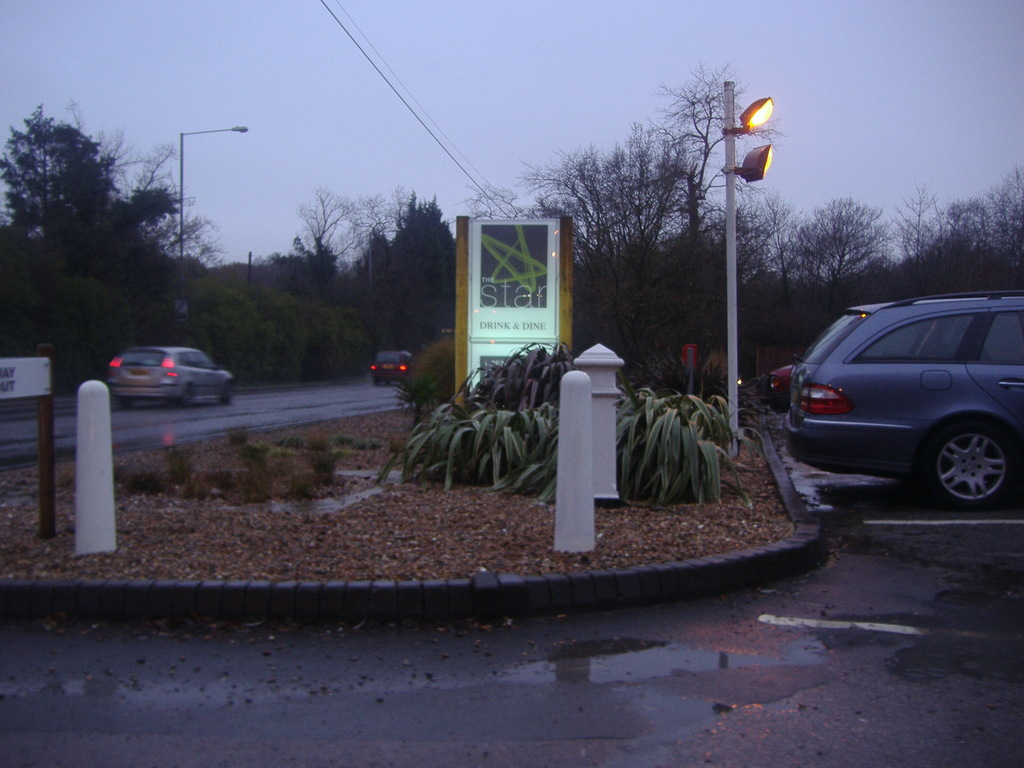Car: (764, 285, 1016, 521), (103, 345, 238, 409), (371, 350, 410, 382), (765, 362, 794, 404)
